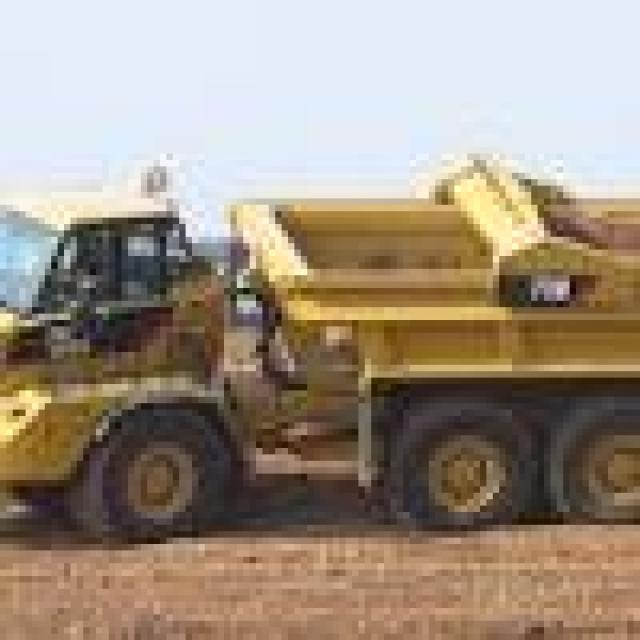dump_truck: (0, 147, 634, 570)
